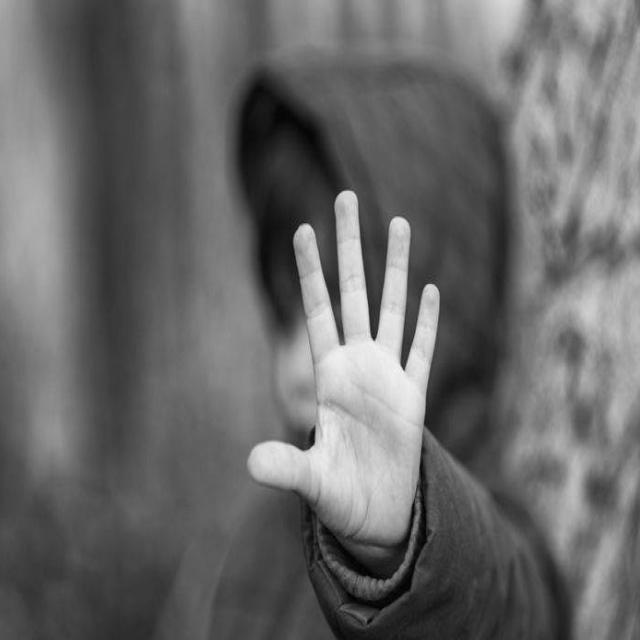stop: (244, 182, 445, 561)
